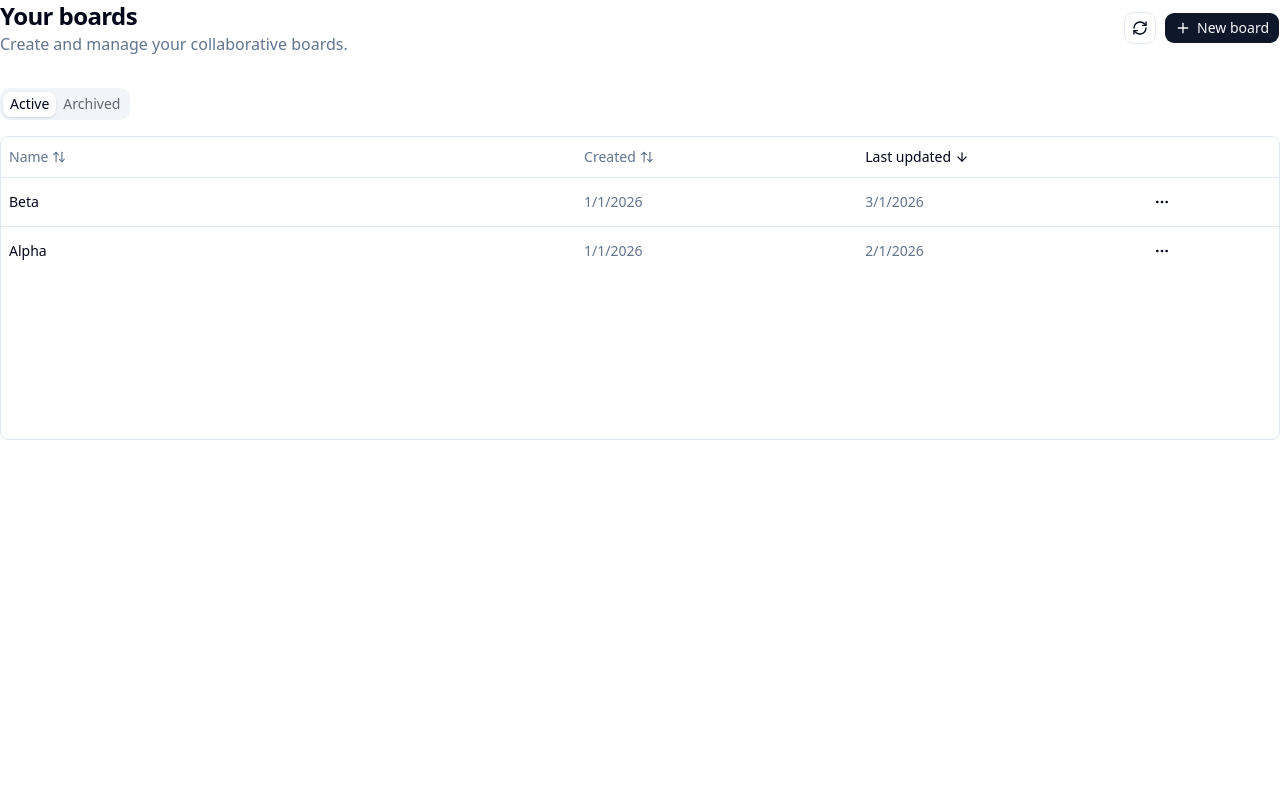
Test: DashboardPage integration › renames a board through the actions menu
The image size is (1280, 800).
Expected: the button "Alpha" is shown, [9, 240, 568, 260]
Click the button named "Board actions" in the row of "2/1/2026" at [1162, 250], box [1146, 234, 1178, 266]
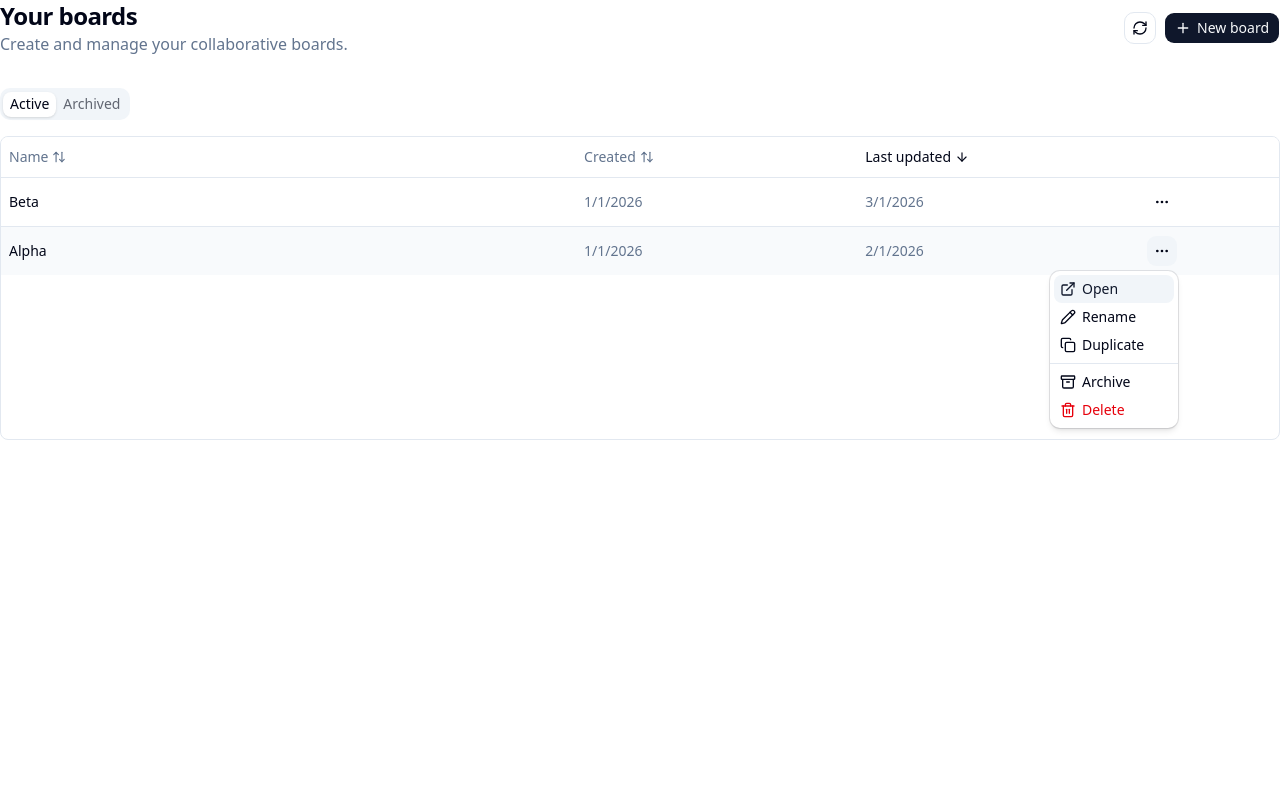
Now the menu is shown, box [1050, 271, 1178, 428]
Click the menu item "Rename" at [1098, 316], box [1060, 307, 1136, 326]
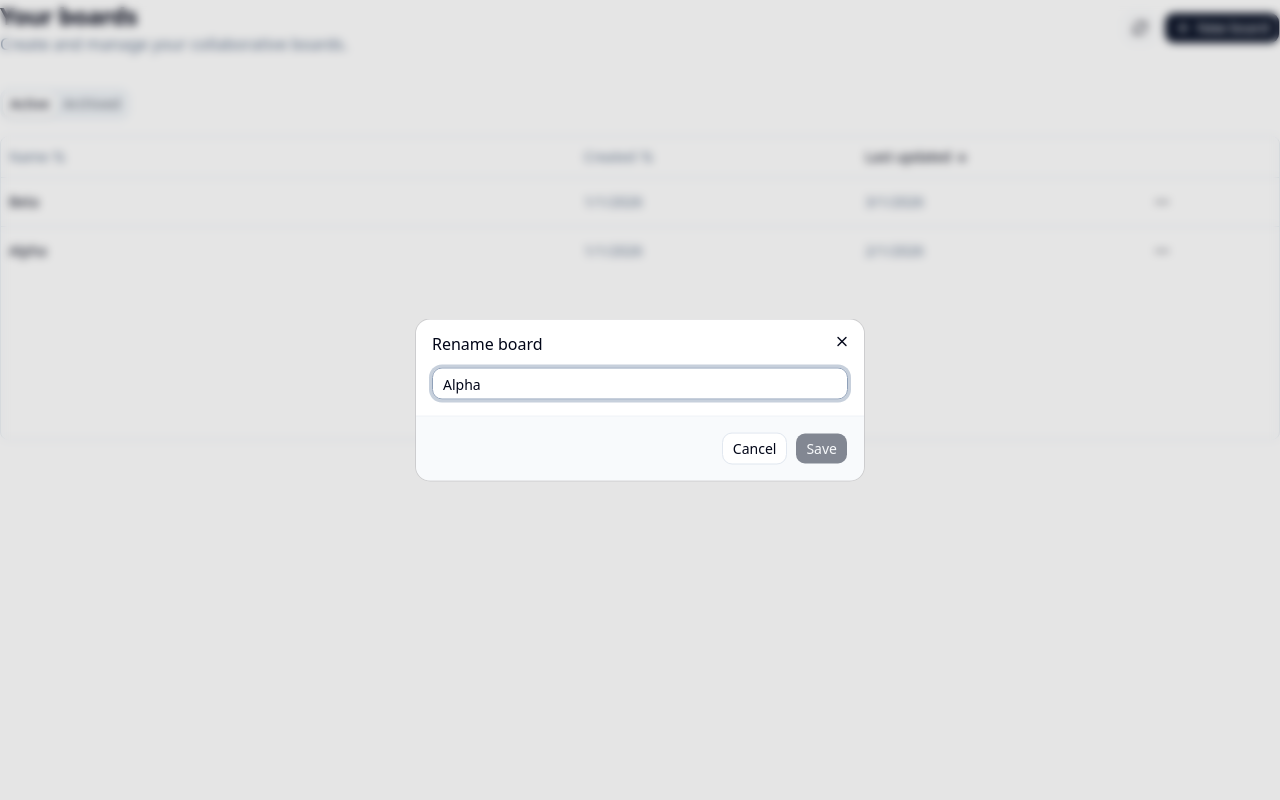
Now the heading "Rename board" is shown, box [432, 332, 543, 354]
Replace the text in the field with placeholder "Board name" with "Renamed Board" at [640, 384], box [432, 368, 848, 400]
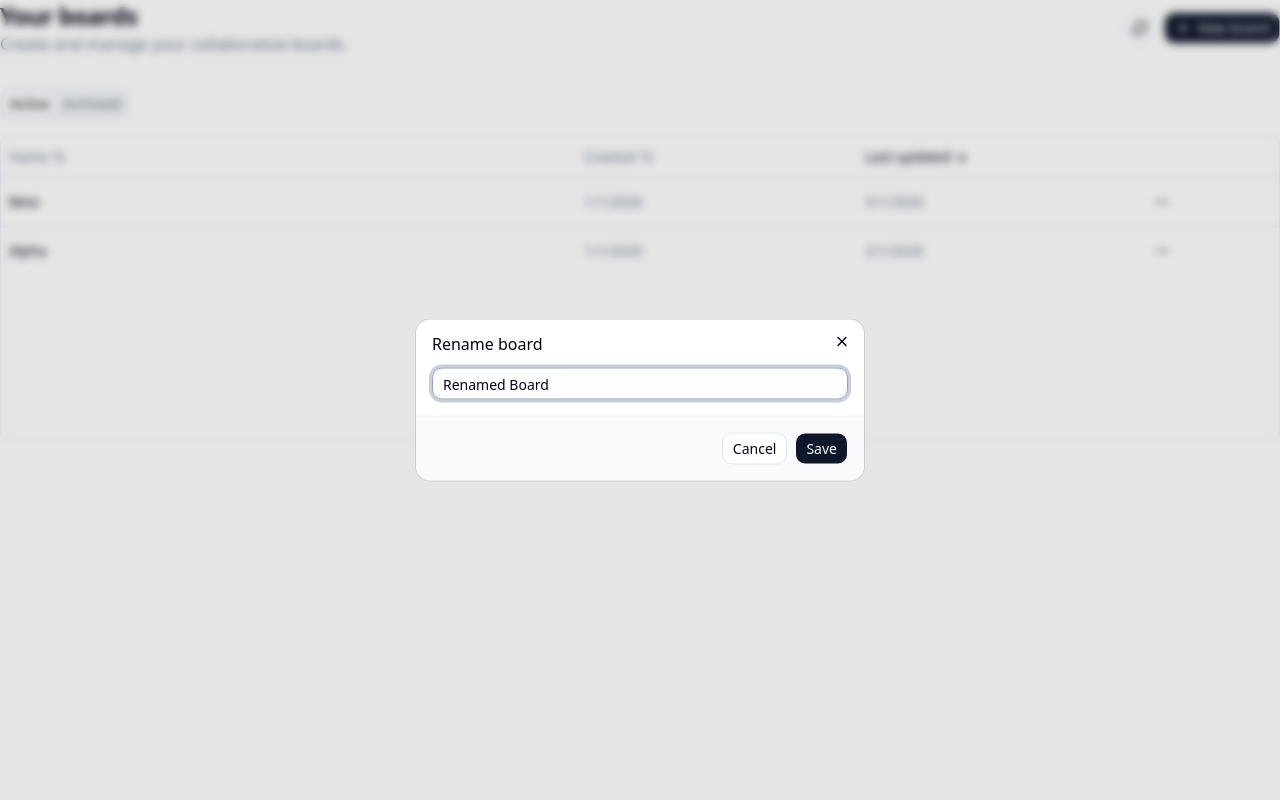
Click the button "Save" at [822, 448], box [795, 432, 848, 464]
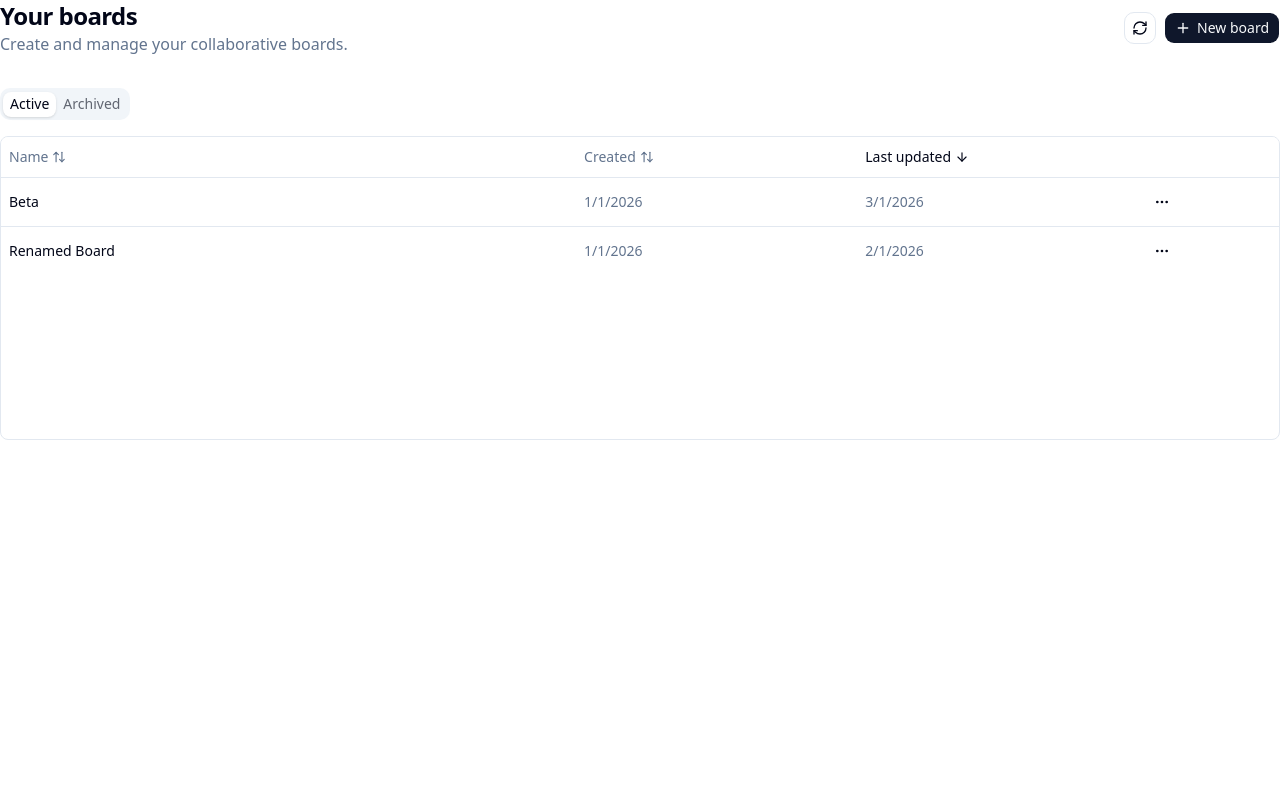
Now the dialog is gone
Now the button "Renamed Board" is shown, box [9, 240, 568, 260]
Now the button "Alpha" is gone
